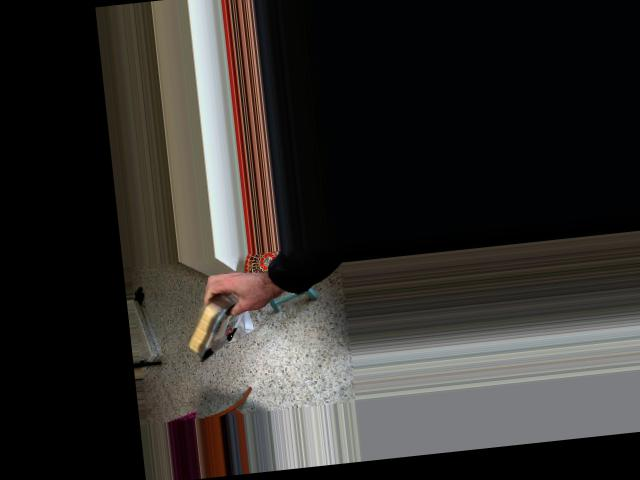cheese: (167, 260, 263, 377)
